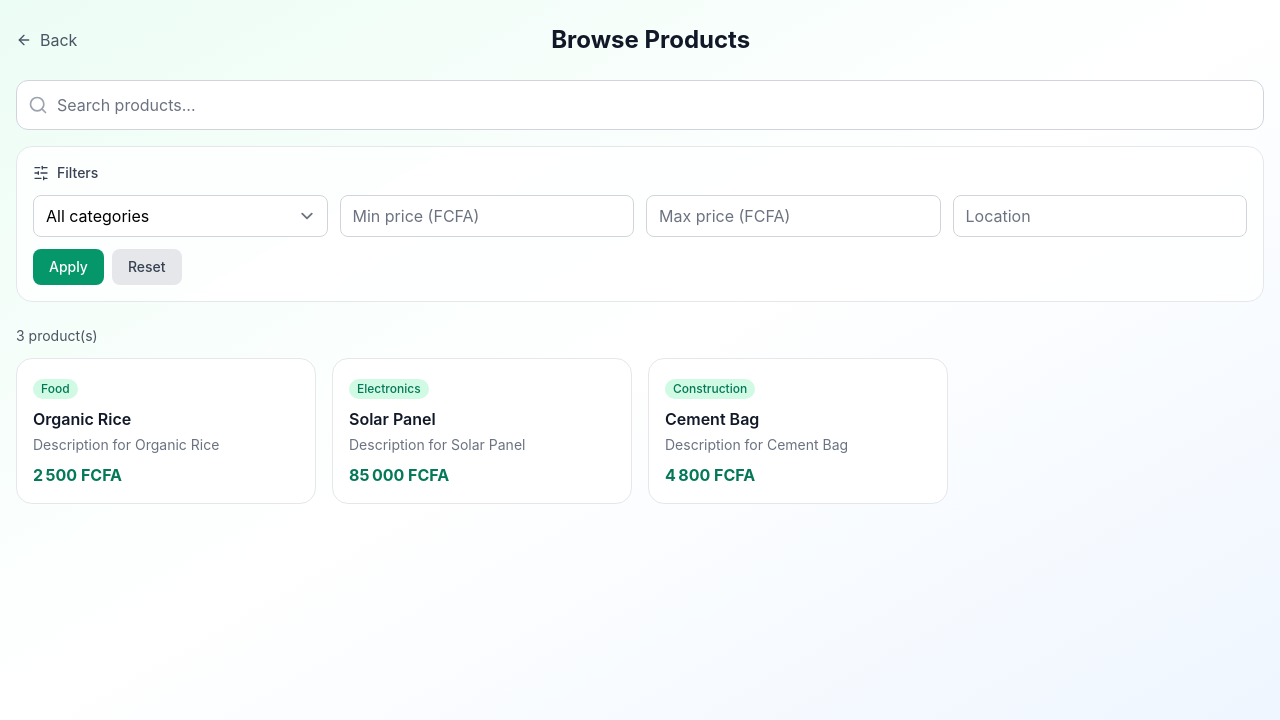
BrowsePage › updates results when price filters change
The image size is (1280, 720).
Expected: the heading "Organic Rice" is shown, x1=33 y1=409 x2=131 y2=429
Type "10000" into the number field with test id "filter-min-price". click: (487, 216)
box: x1=340 y1=195 x2=634 y2=237
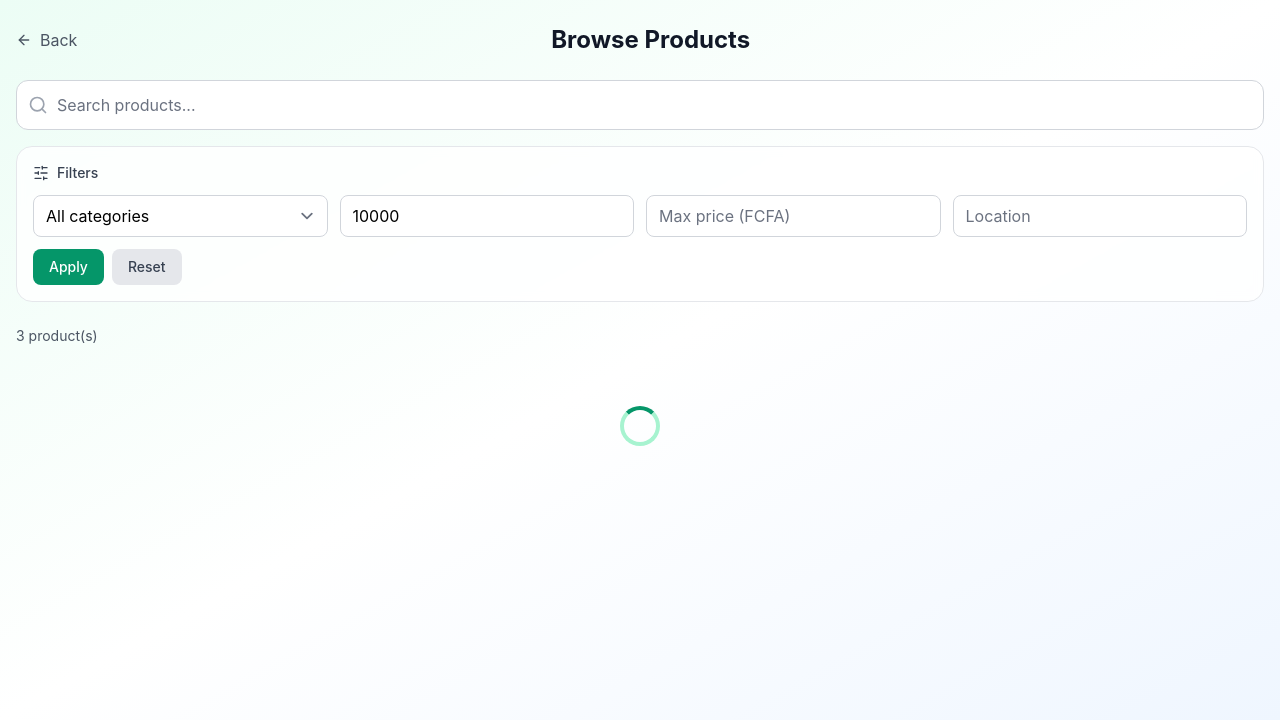
Click the button with test id "apply-filters". click: (68, 267)
box: x1=33 y1=249 x2=104 y2=285
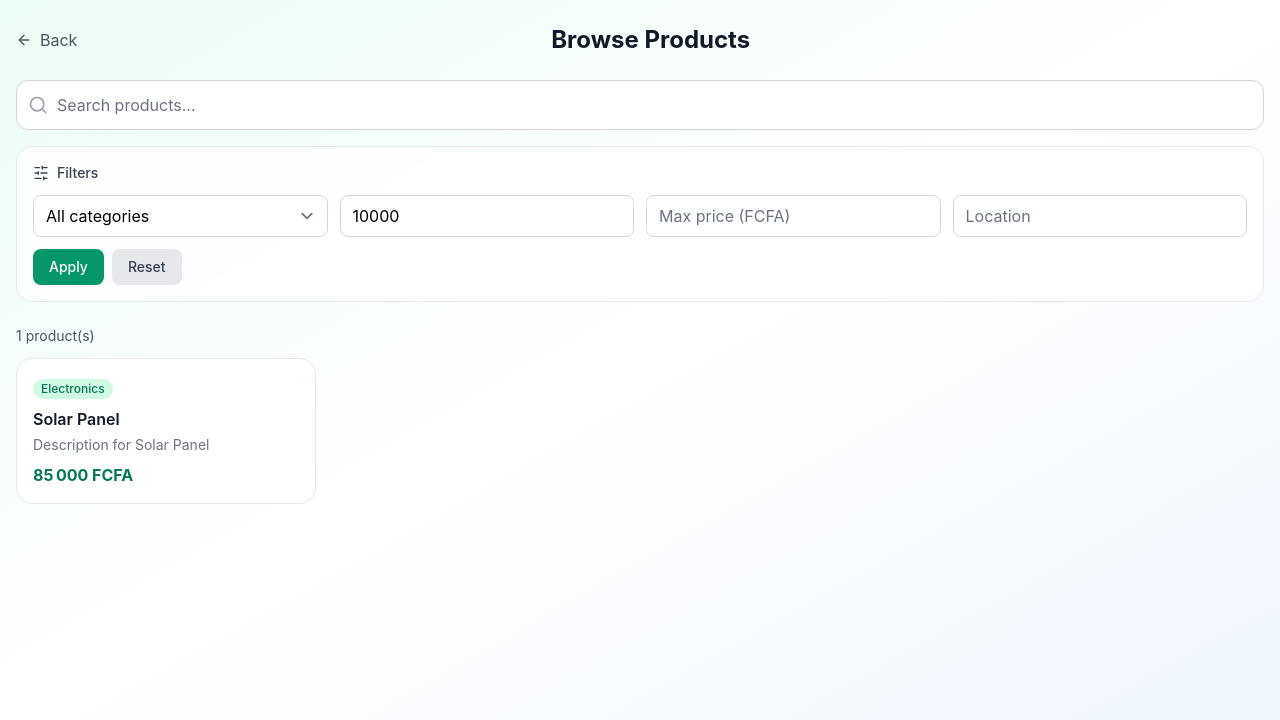
Expected: the button "Organic Rice" is not shown
Expected: the heading "Solar Panel" is shown, x1=33 y1=409 x2=120 y2=429
